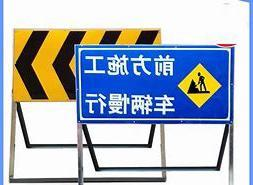sign: (76, 45, 234, 123)
